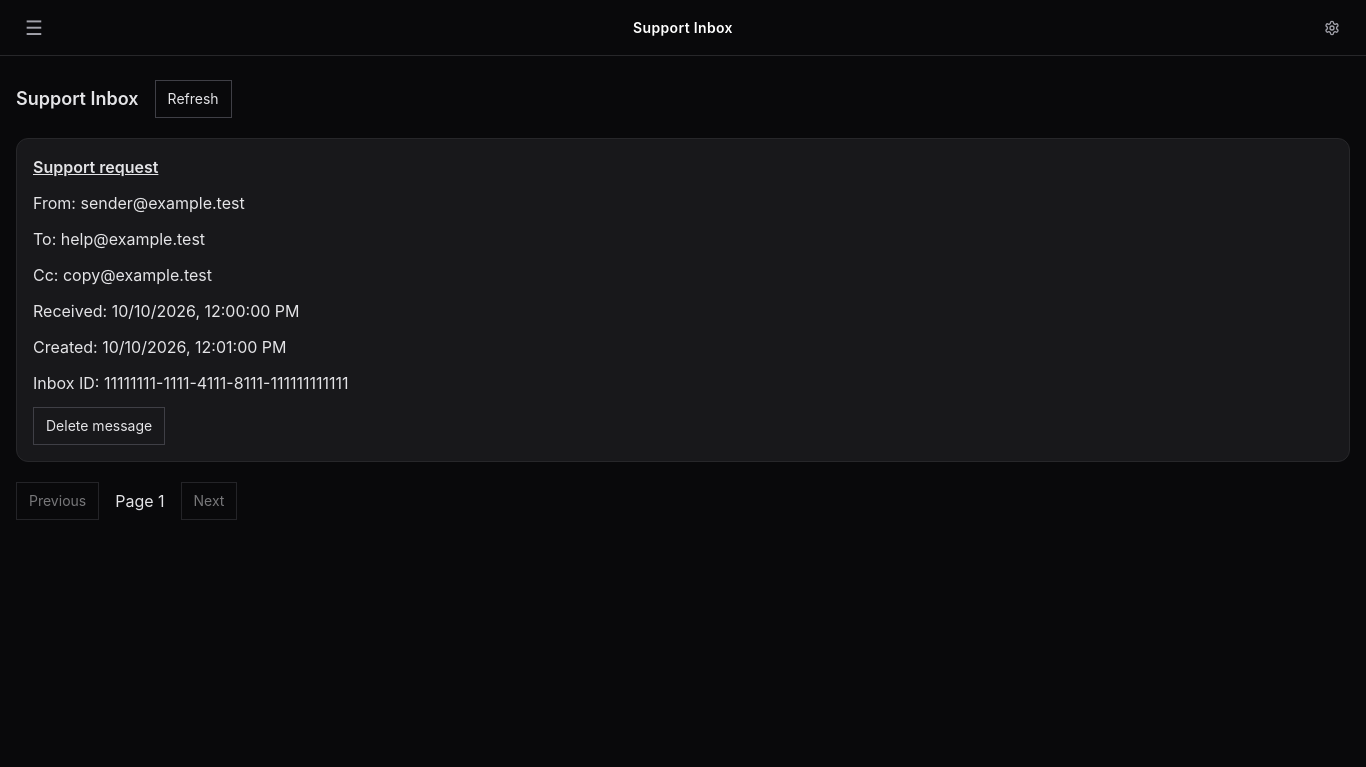
Test: Admin support inbox › links list rows to exact-ID details and displays inert bodies, attachment metadata, and read-only notification status
Click the link "Support request". click: point(96, 167)
box: [33,157,158,177]
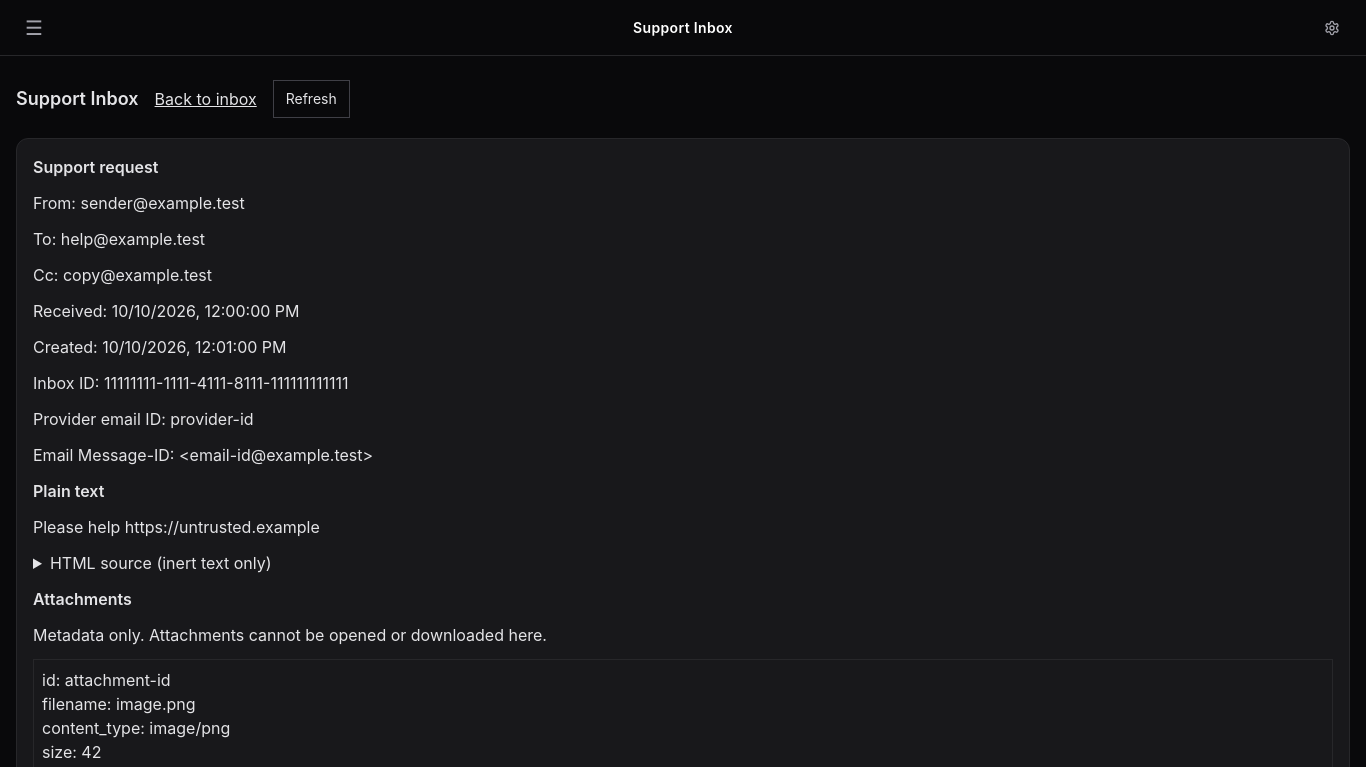
Expected: the text "provider-id" is shown, [170,409,254,429]
Expected: the text "Please help https://untrusted.example" is shown, [33,517,320,537]
Expected: the text "image.png" is shown, [116,694,196,714]
